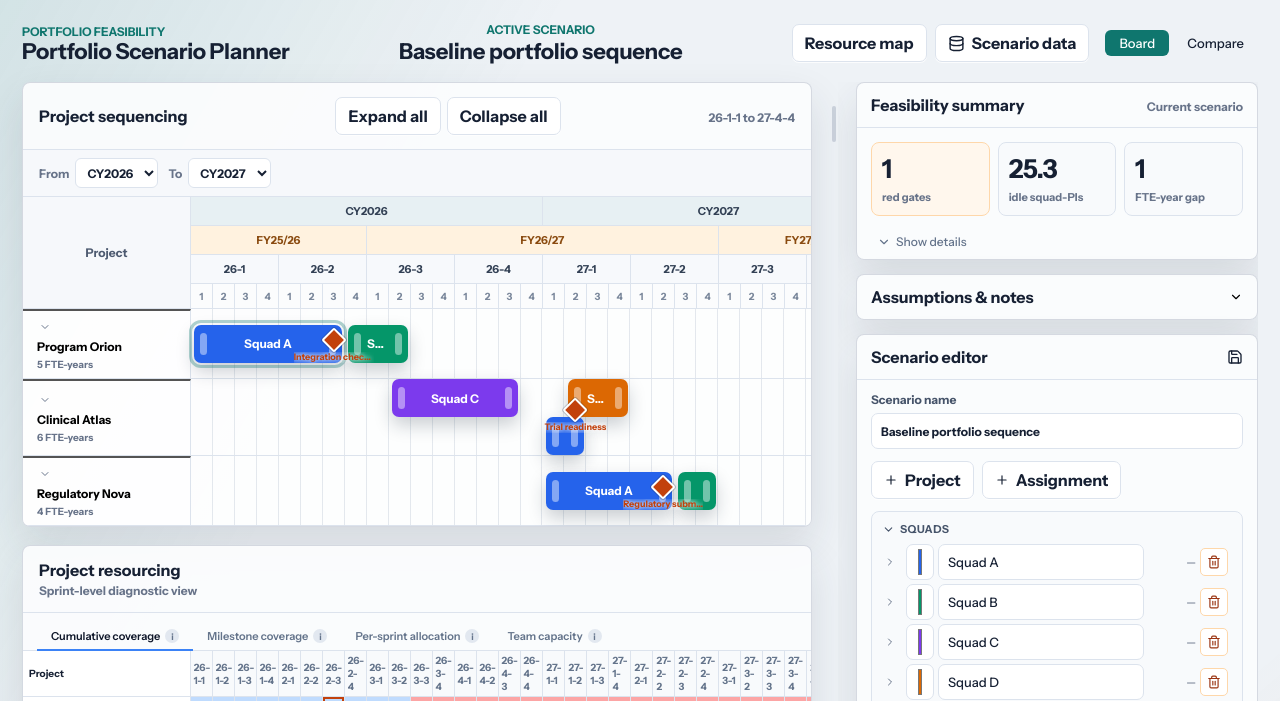
Test: Portfolio Scenario Planner app › deletes an assignment from the chart context menu
Right-click the button with aria-label "Squad A on Program Orion" at (268, 344), box left=194, top=325, right=342, bottom=363
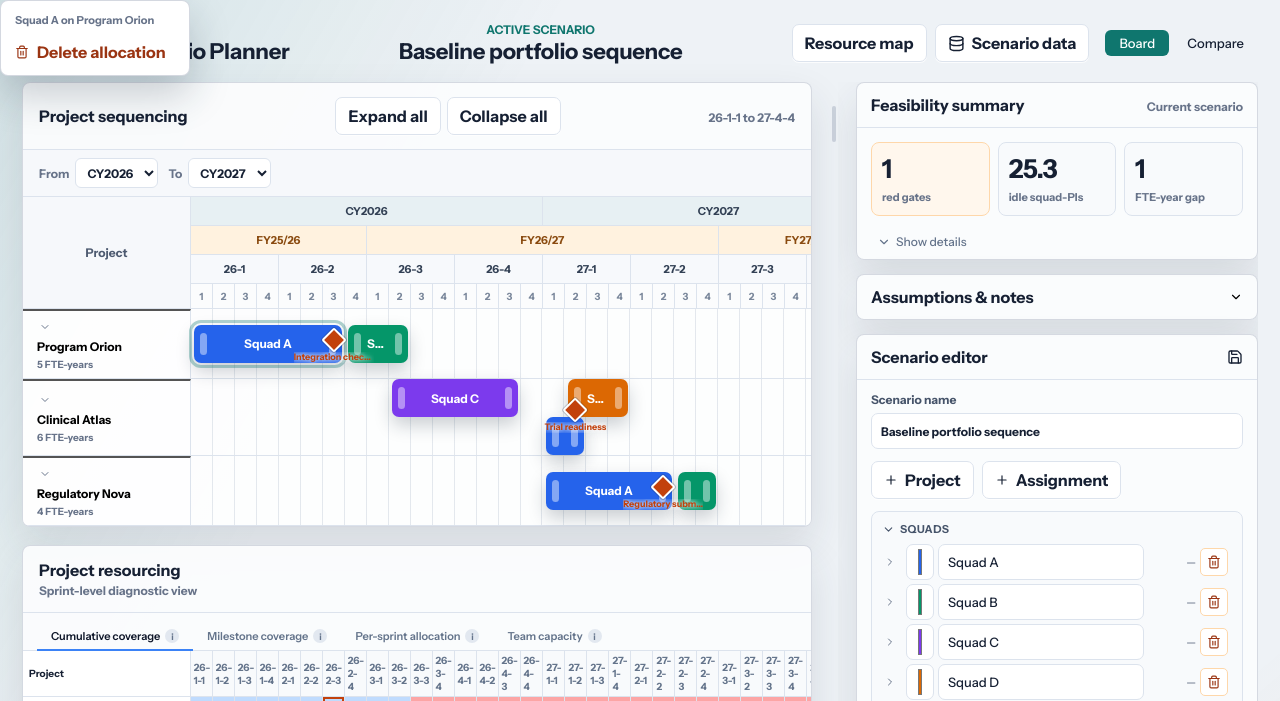
Click the menu item "Delete allocation" at (95, 52), box left=7, top=35, right=183, bottom=69
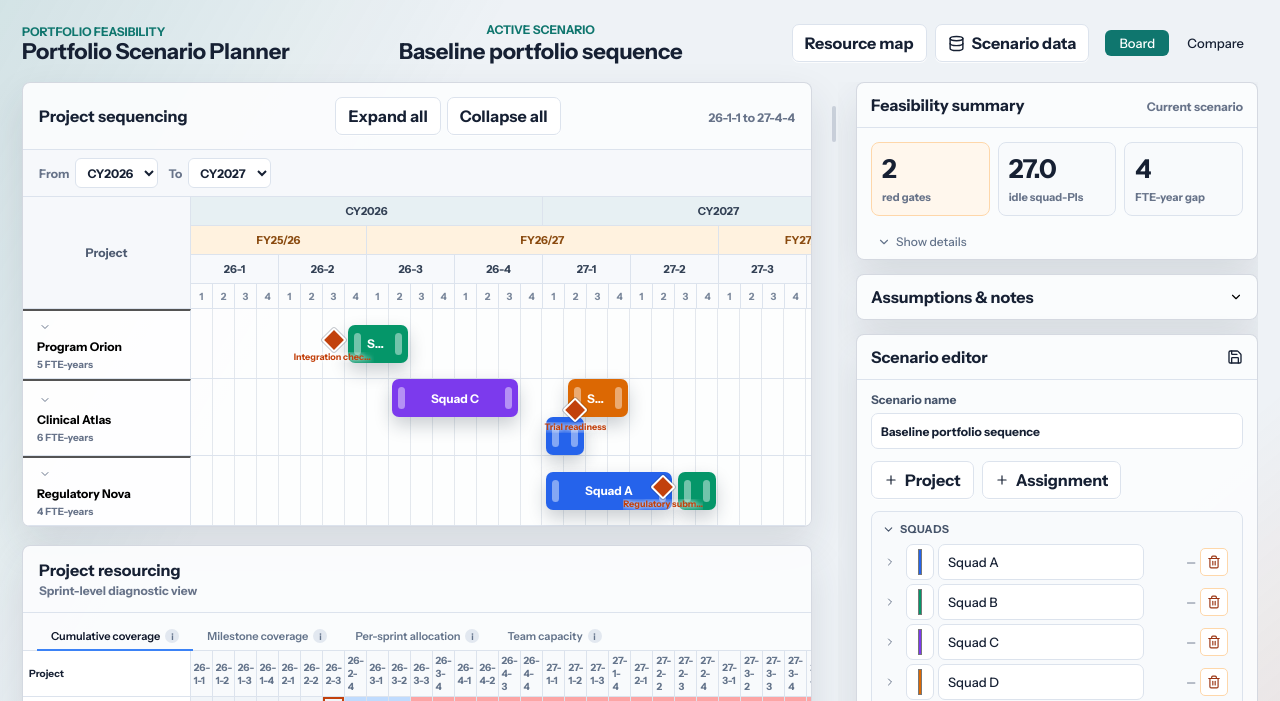
Expected: the text "Squad A on Program Orion" is gone
